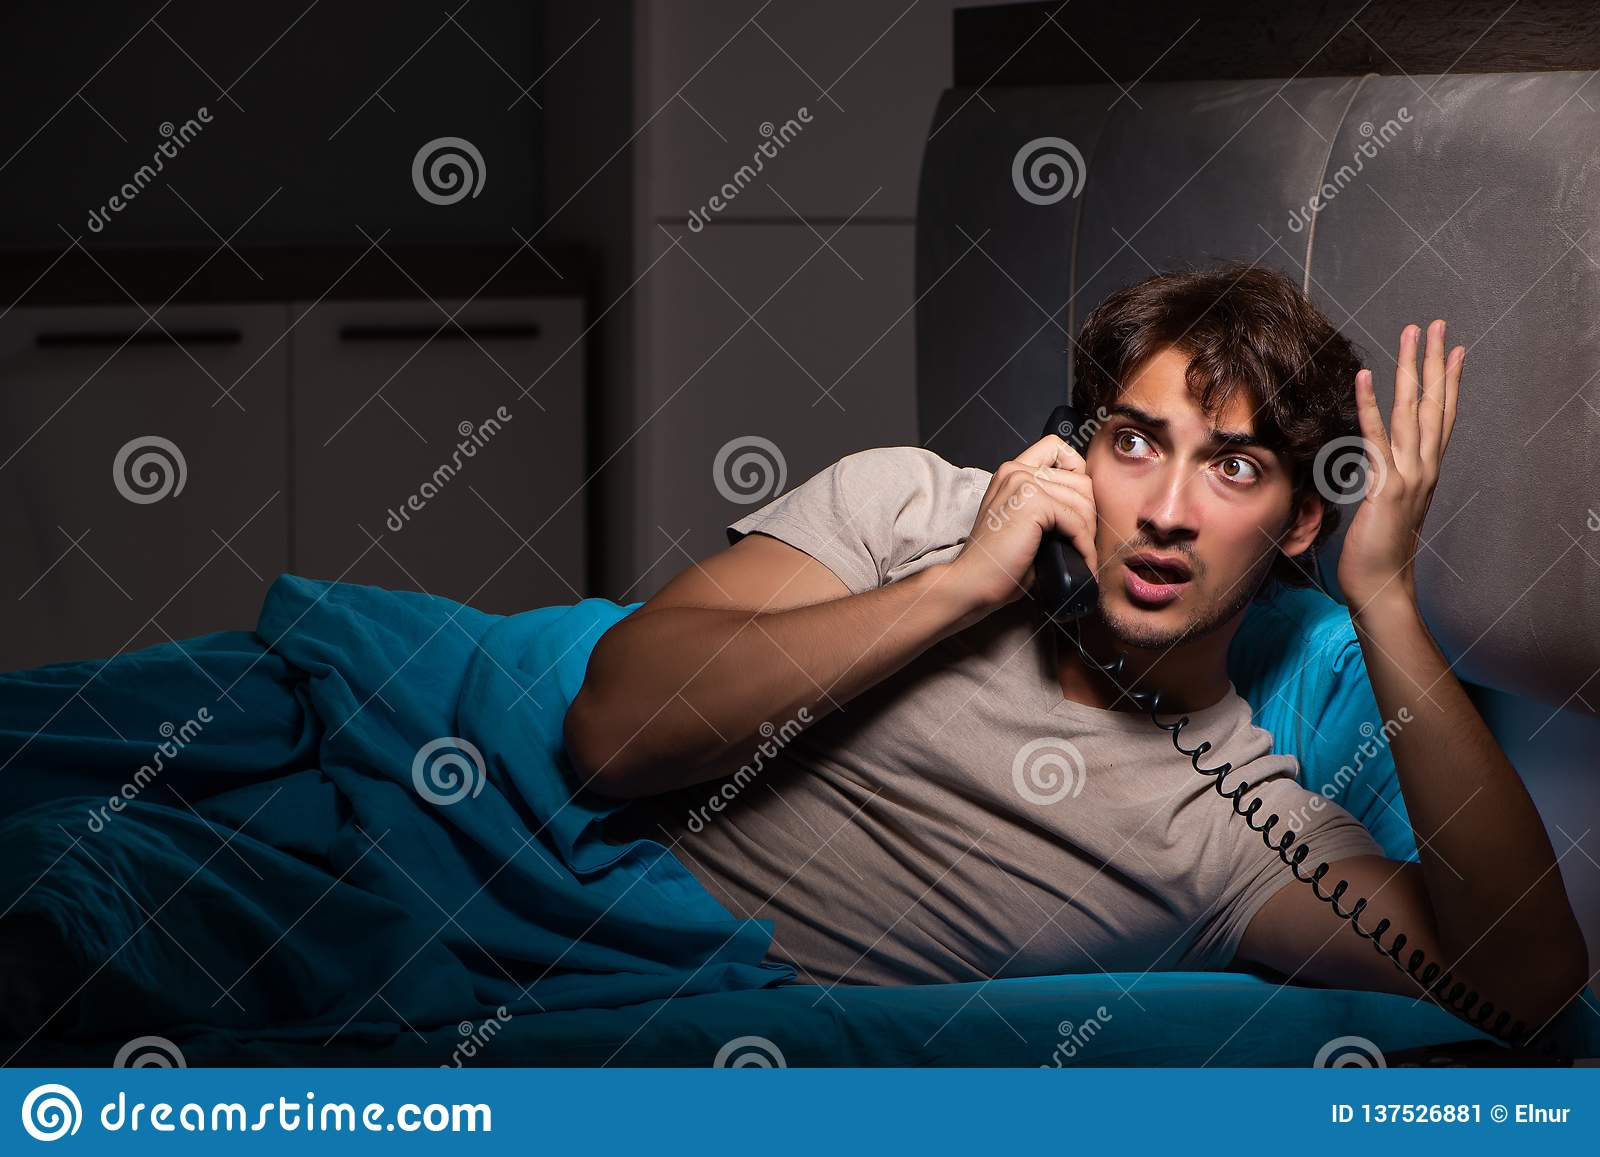phone: (1012, 401, 1114, 636)
talk: (971, 396, 1282, 672)
